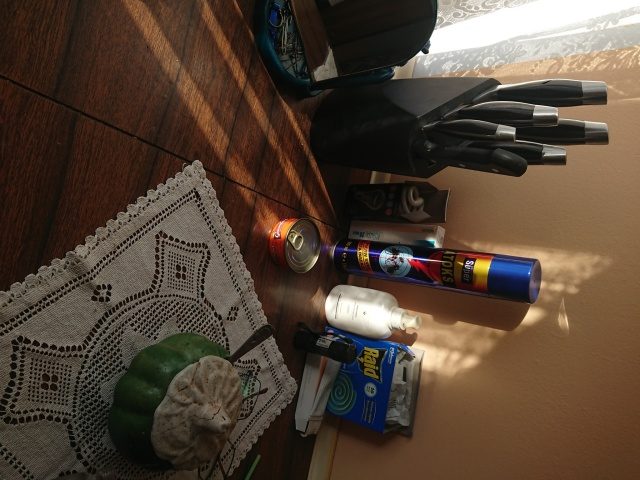Gavrilovic Pork Liver Pate 100g: (266, 215, 324, 277)
